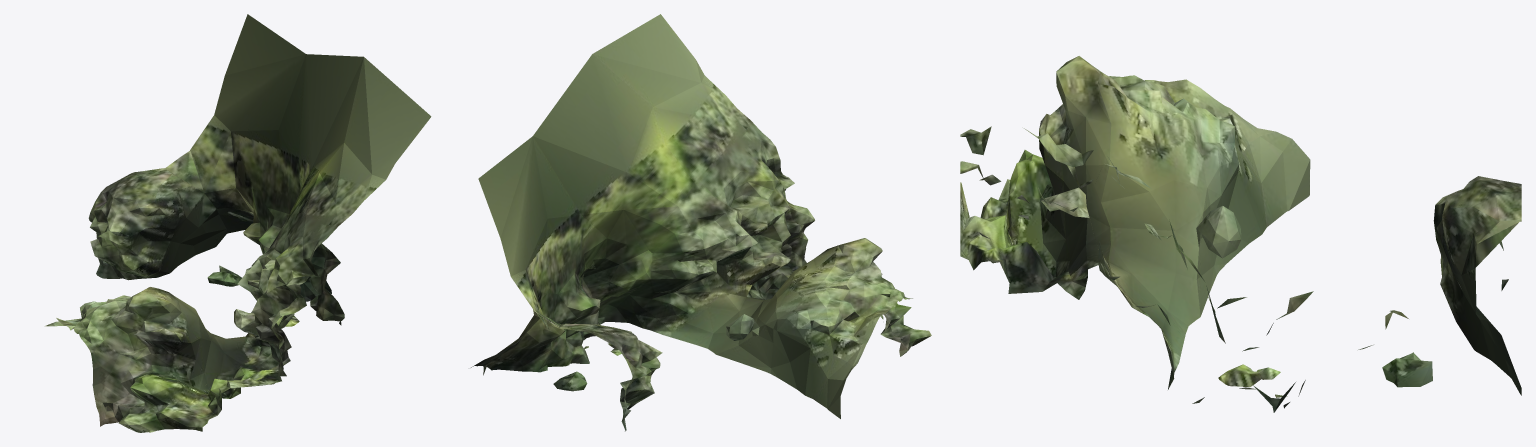
3 renders of one model, left to right at view 1: azimuth 30°, elevation 25°; view 2: azimuth 150°, elevation 25°; view 3: azimuth 270°, elevation 25°, orthographic. The views are drawn at different scales.
Size of the model in its own units: 26.11 by 20.78 by 26.11.
Materials: 4 (4 with a texture image).
